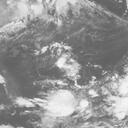cyclone: (39, 38, 80, 77)
